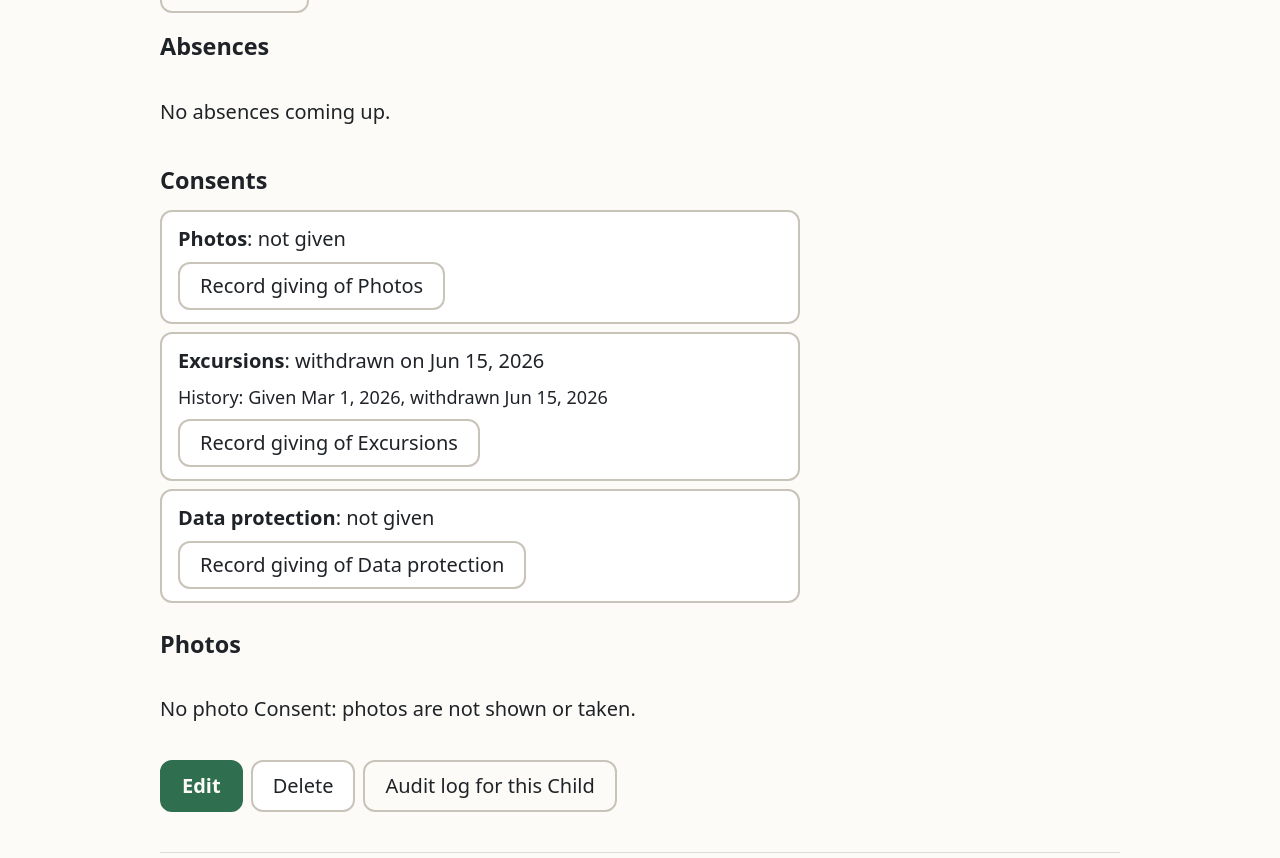
Test: Consents › tells an Admin why a date was refused
(page scrolled)
Click the button "Record giving of Excursions". click: (329, 443)
box: [178,419,480,467]
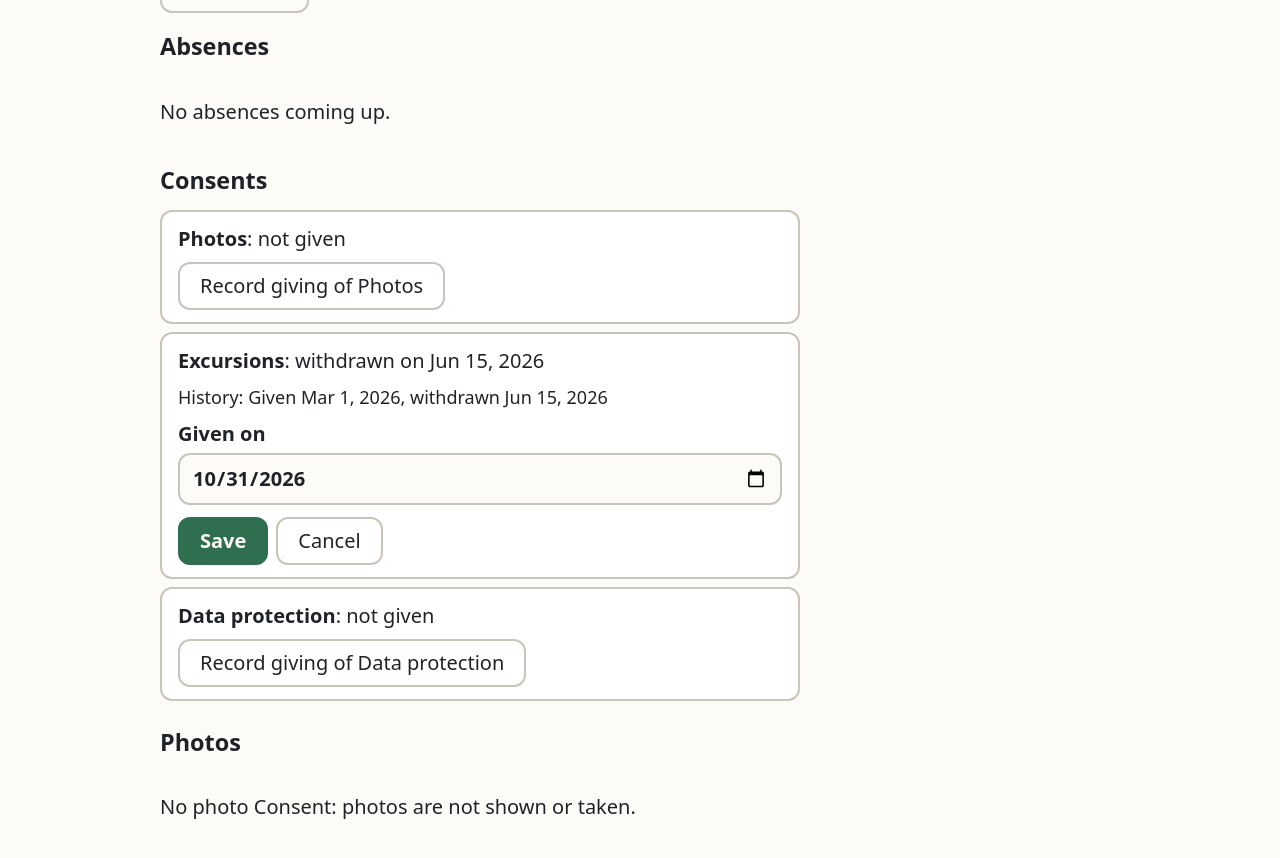
Type "2026-06-01" into the date field labelled "Given on". click: (480, 479)
box: [178,453,782,505]
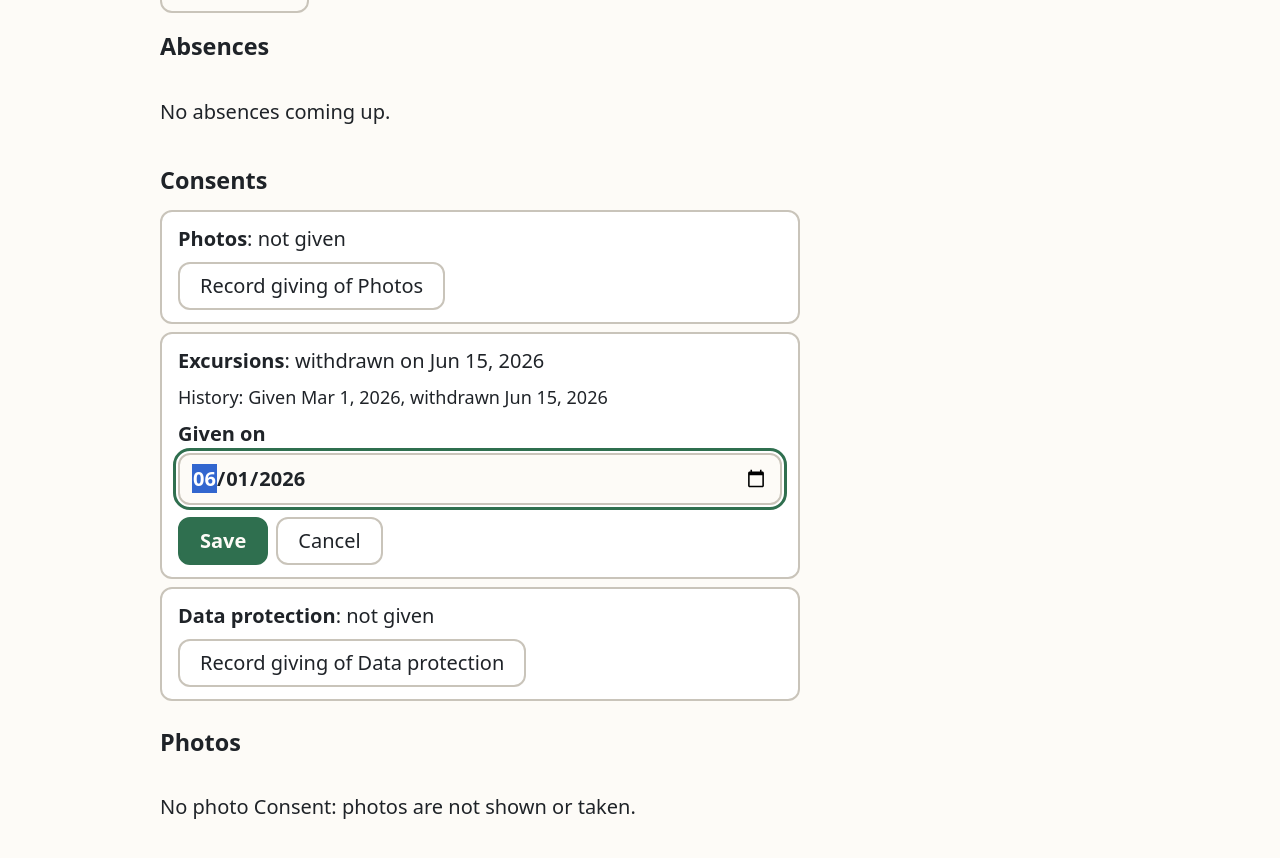
Click the button "Save". click: (223, 541)
box: [178,517,268,565]
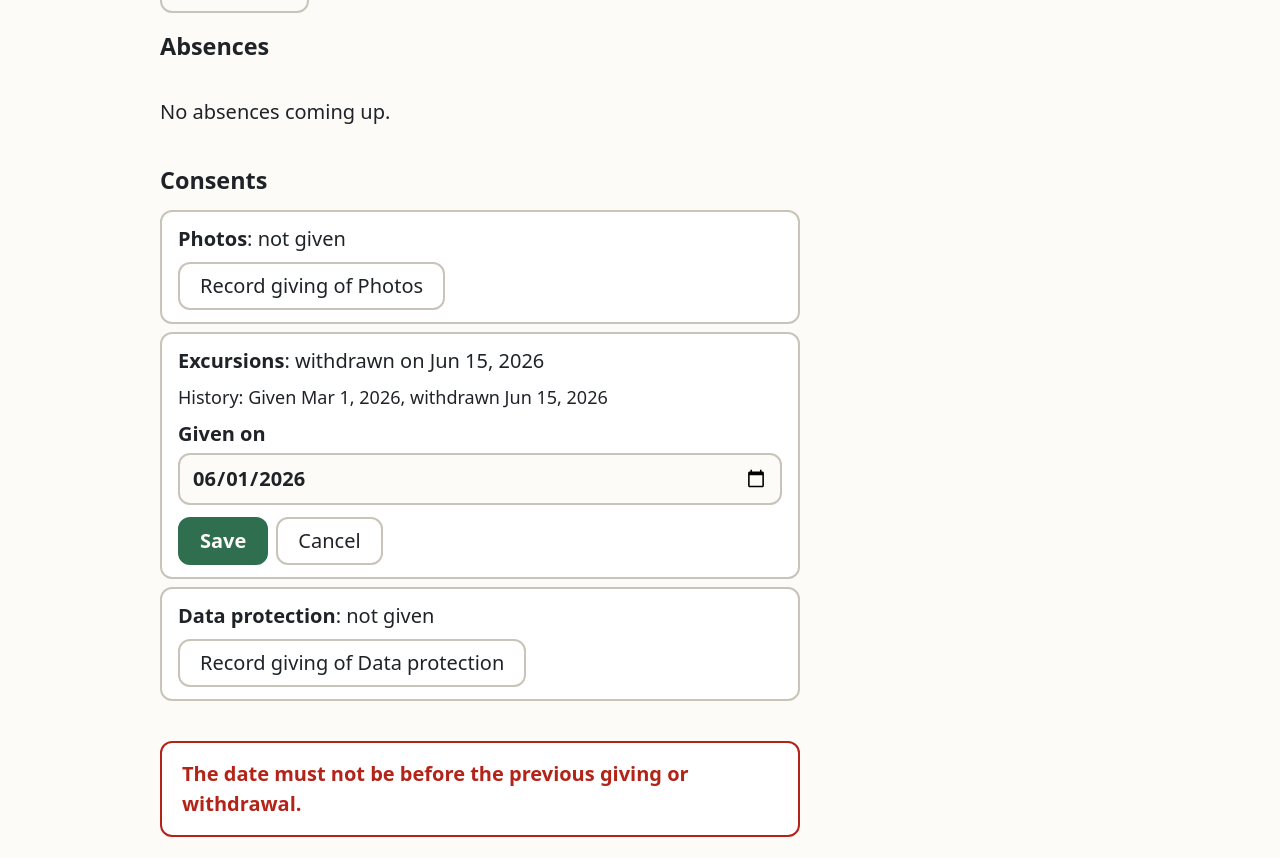
Now the message reads "The date must not be before the previous giving or withdrawal.", box [182,760,689,817]
